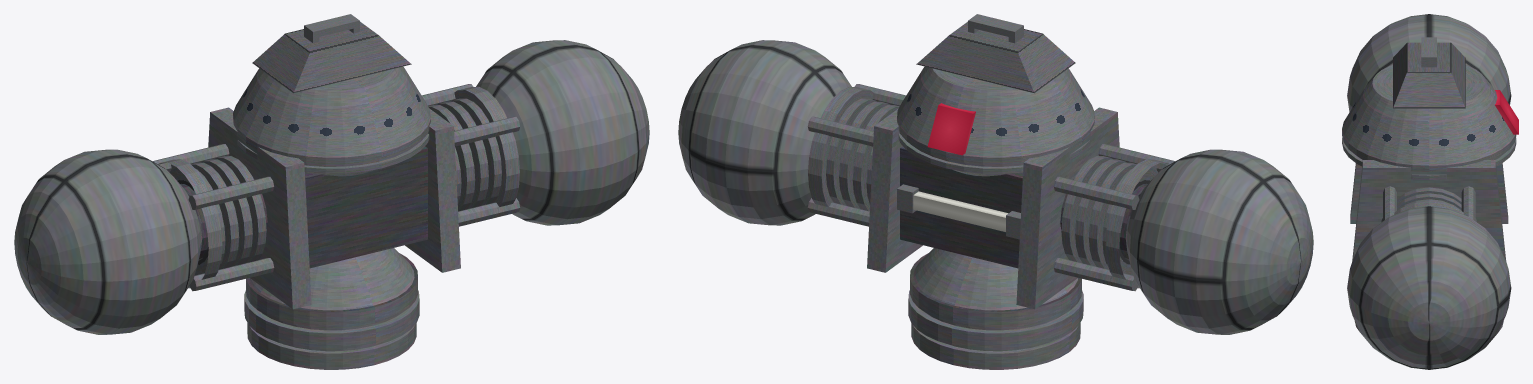
The model's file is naquadah_generator_mk1_on.obj.
The picture shows the model from 3 angles, left to right: view 1: azimuth 30°, elevation 25°; view 2: azimuth 150°, elevation 25°; view 3: azimuth 270°, elevation 25°; orthographic projection. The views are drawn at different scales.
Bounding box in the file's own units: 0.98 × 0.4775 × 0.28.
